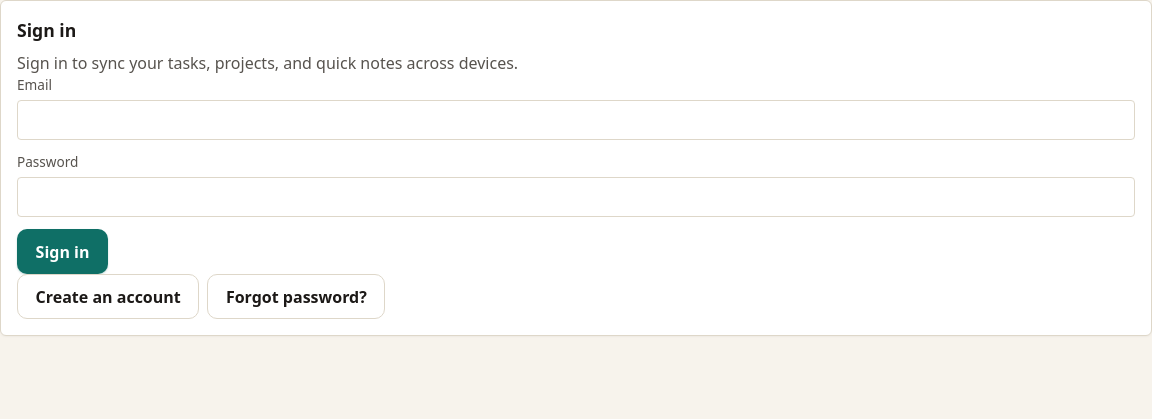
Scenario: AccountPanel › shows the Supabase error message directly on failed sign-in
The width and height of the screenshot is (1152, 419).
Type "a@example.com" into the field labelled "Email" at {"x": 576, "y": 120}, box 17,100 -> 1135,140
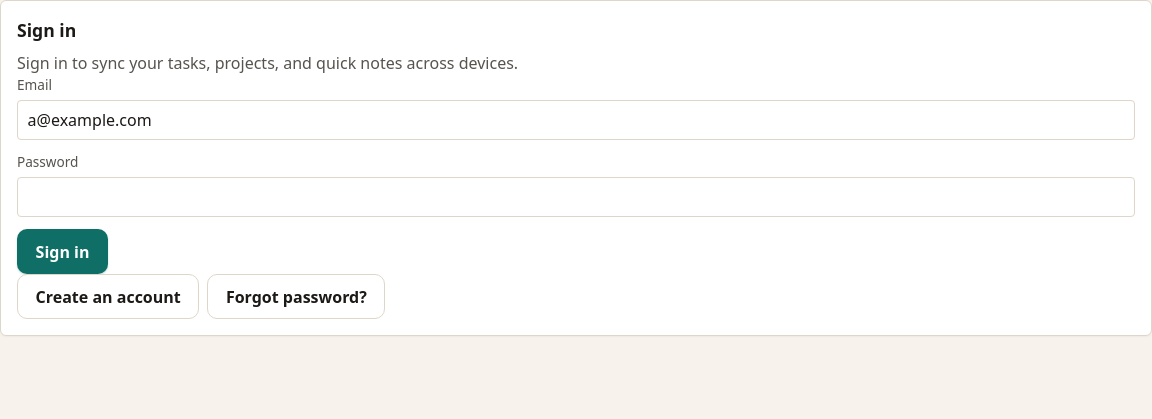
Type "wrong" into the password field labelled "Password" at {"x": 576, "y": 197}, box 17,176 -> 1135,217
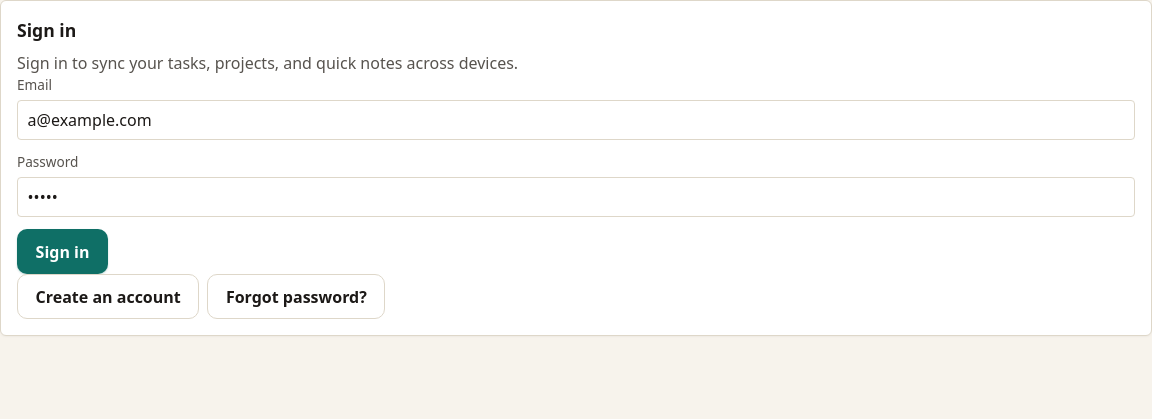
Click the button "Sign in" at {"x": 63, "y": 252}, box 17,229 -> 108,274
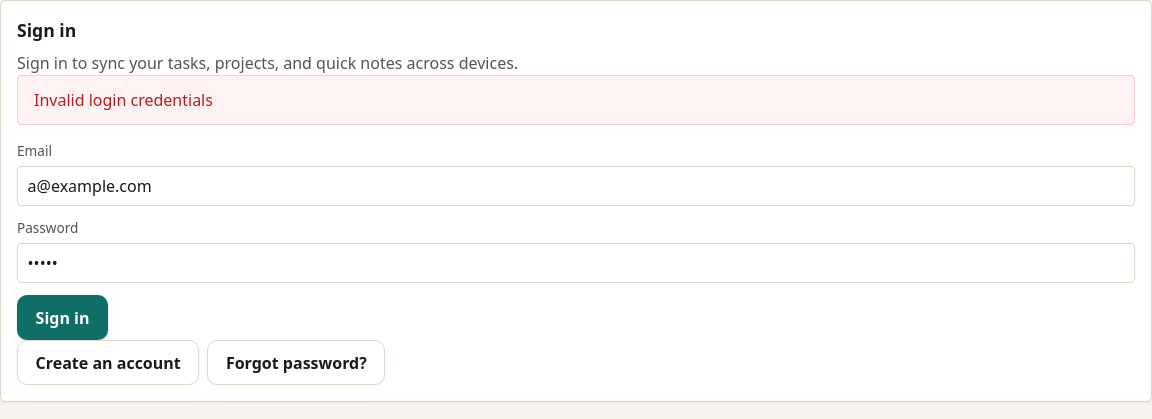
expect the text "Invalid login credentials" is shown: met, box 17,75 -> 1135,125
